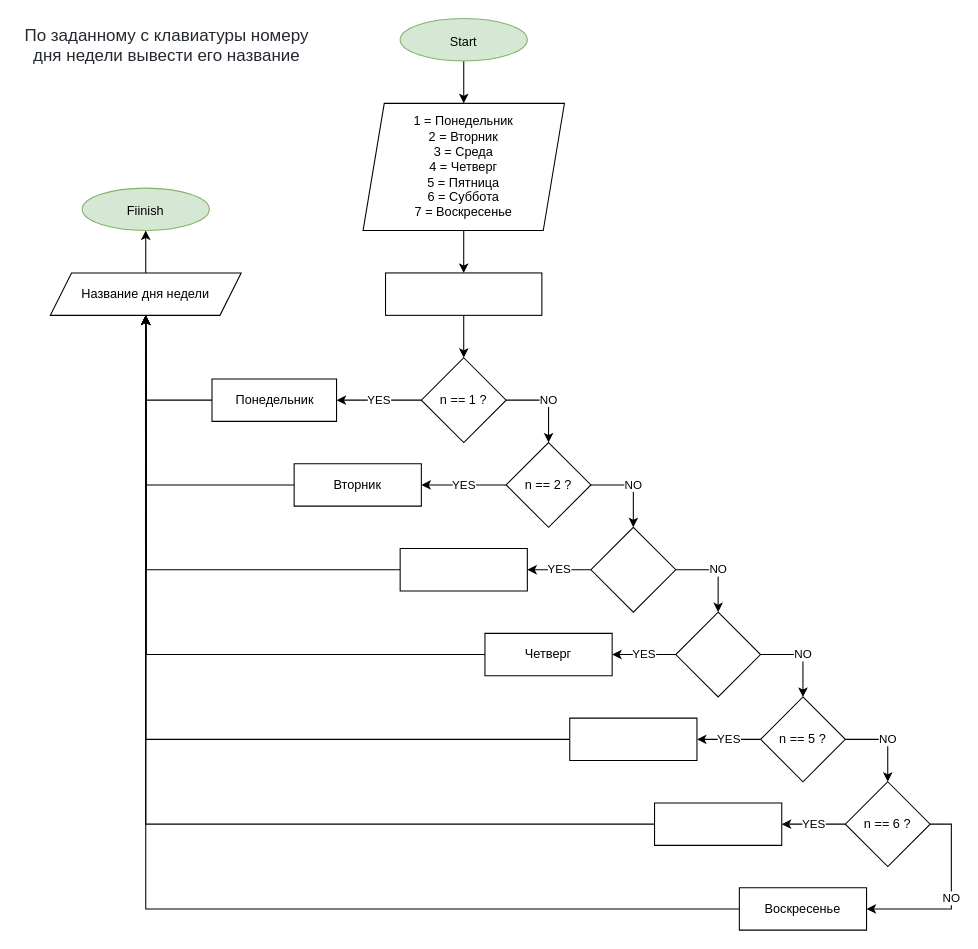
Some shapes in this 978 by 949 pixel diagram are drawn without their labels. Here are the shapes that lost their labels. From the top down, the centre of each, then its label:
At pixel 463 293: "n = номер дня недели".
At pixel 463 569: "Среда".
At pixel 633 569: "n == 3 ?".
At pixel 718 654: "n == 4 ?".
At pixel 633 739: "Пятница".
At pixel 717 823: "Суббота".
